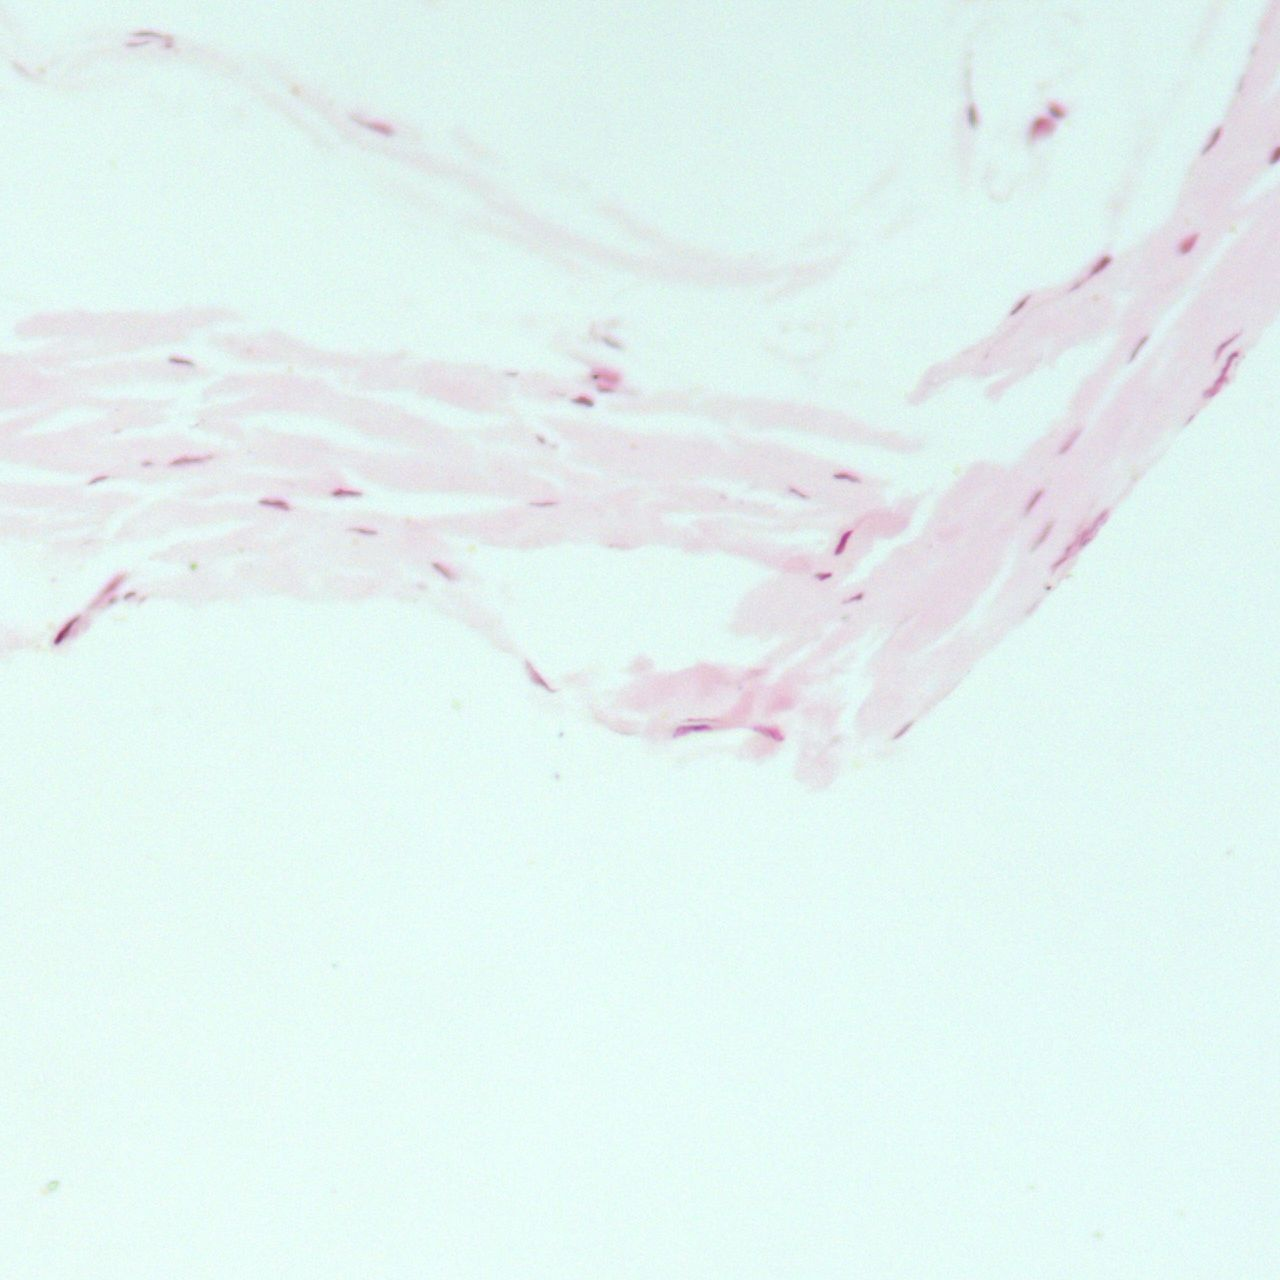dust: (537, 435, 546, 444), (1044, 585, 1054, 593), (188, 563, 196, 572), (591, 374, 597, 379)
nucleus-AC: (1050, 506, 1114, 577), (1201, 349, 1242, 400), (352, 109, 395, 141), (91, 572, 128, 608), (519, 658, 554, 694), (49, 613, 83, 651), (1196, 125, 1228, 159), (1210, 328, 1241, 362), (1028, 519, 1057, 552), (1080, 254, 1112, 284), (1125, 333, 1152, 363), (1172, 231, 1204, 257), (430, 559, 457, 585), (831, 527, 855, 557), (1007, 293, 1032, 316), (1058, 429, 1082, 452), (1030, 118, 1056, 138), (593, 367, 621, 383), (1024, 488, 1043, 512), (756, 724, 785, 740), (892, 720, 913, 741), (670, 726, 713, 735), (260, 498, 291, 511), (171, 457, 209, 467), (88, 470, 113, 484), (1262, 148, 1280, 166), (788, 485, 808, 501), (346, 525, 377, 535), (843, 592, 865, 605), (331, 488, 360, 497), (1048, 102, 1065, 117), (166, 356, 197, 365), (573, 395, 595, 406), (132, 30, 163, 38), (529, 501, 557, 508), (833, 474, 858, 481), (816, 571, 833, 580)
